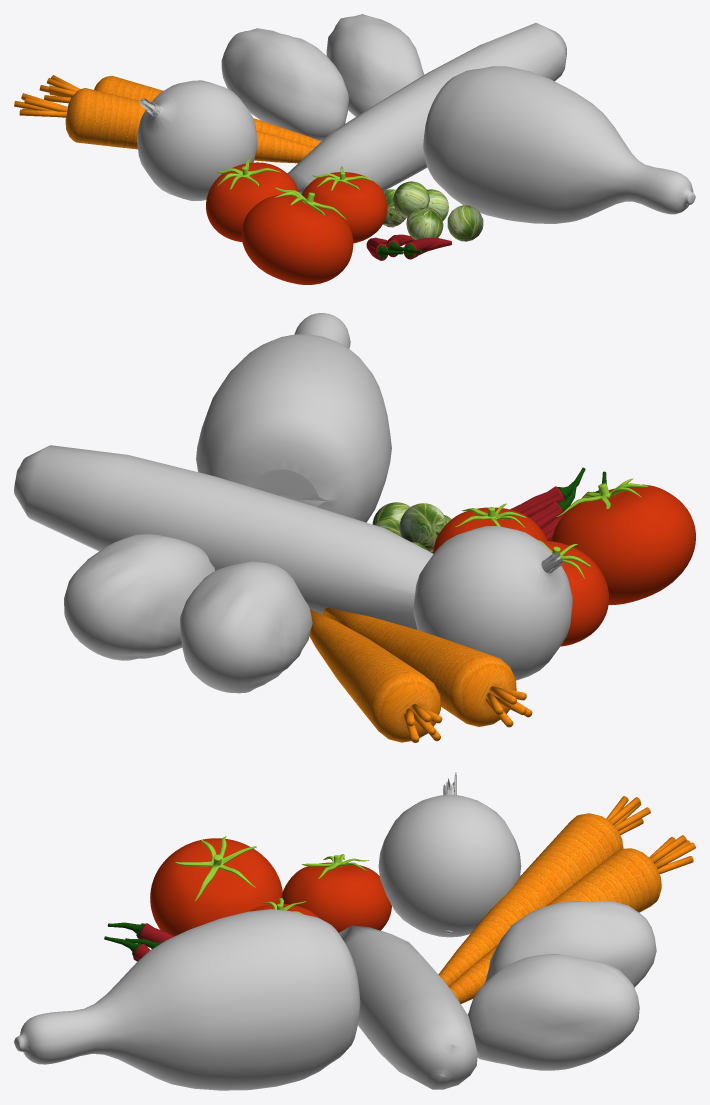
Rendered from vegetable.fbx.
The picture shows the model from 3 angles, top to bottom: view 1: azimuth 30°, elevation 25°; view 2: azimuth 150°, elevation 25°; view 3: azimuth 270°, elevation 25°; orthographic projection. The views are drawn at different scales.
Visible parts, largest first — view 1: Butternut_Squash, Corn, onion, Potato2, Tomato_002, Potato, Carrot, Tomato_001, Tomato, Carrot_001, brussell_sprouts_001, brussell_sprouts (+8 smaller); view 2: Corn, Butternut_Squash, onion, Potato, Potato2, Tomato_002, Carrot_001, Carrot, Tomato_001, Tomato, brussell_sprouts_004, stem (+3 smaller); view 3: Butternut_Squash, Potato, onion, Corn, Potato2, Tomato_002, Carrot, Tomato_001, Carrot_001, stem_001, Cylinder_002, stem.
Part boxes in pixels (x1,y1,x2,y2): Butternut_Squash: (423, 66, 695, 223); Corn: (287, 23, 566, 194); onion: (137, 80, 257, 200); Potato2: (221, 28, 348, 140); Tomato_002: (241, 195, 353, 284); Potato: (326, 14, 424, 116); Carrot: (65, 88, 314, 163); Tomato_001: (206, 162, 298, 241); Tomato: (301, 172, 387, 243); Carrot_001: (94, 76, 321, 147); brussell_sprouts_001: (447, 205, 483, 241); brussell_sprouts: (406, 207, 443, 239); Corn: (14, 445, 433, 629); Butternut_Squash: (196, 313, 391, 522); onion: (413, 526, 572, 680); Potato: (64, 534, 214, 660); Potato2: (180, 561, 312, 693); Tomato_002: (551, 484, 695, 604); Carrot_001: (309, 609, 440, 742); Carrot: (322, 607, 516, 726); Tomato_001: (541, 540, 608, 646); Tomato: (433, 507, 547, 553); brussell_sprouts_004: (399, 503, 446, 551); stem: (485, 686, 532, 727); Butternut_Squash: (14, 909, 360, 1090); Potato: (467, 954, 639, 1070); onion: (378, 772, 521, 937); Corn: (339, 925, 477, 1089); Potato2: (485, 901, 656, 987); Tomato_002: (150, 838, 282, 936); Carrot: (438, 813, 623, 986); Tomato_001: (281, 862, 391, 932); Carrot_001: (449, 848, 661, 1003); stem_001: (649, 835, 695, 873); Cylinder_002: (175, 836, 256, 901); stem: (606, 796, 650, 835).
Size of the model in its own units: 2.56 by 0.725 by 2.75.
